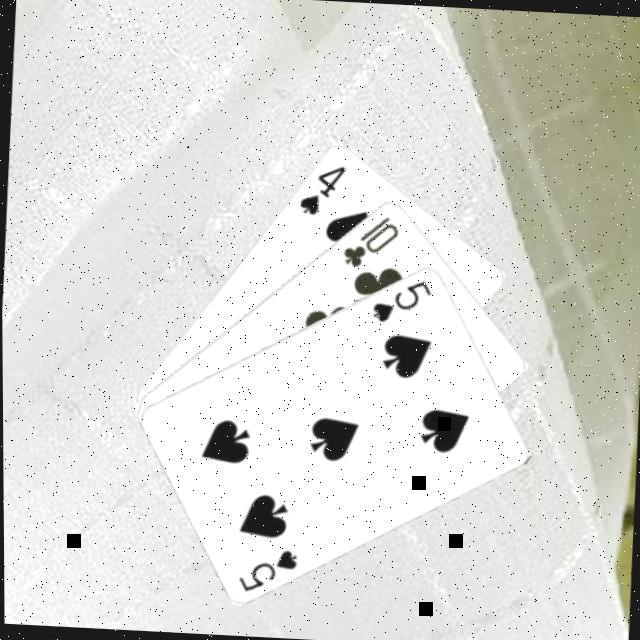10C: (340, 208, 405, 271)
4S: (296, 157, 352, 218)
5S: (236, 541, 304, 595), (369, 272, 436, 326)
